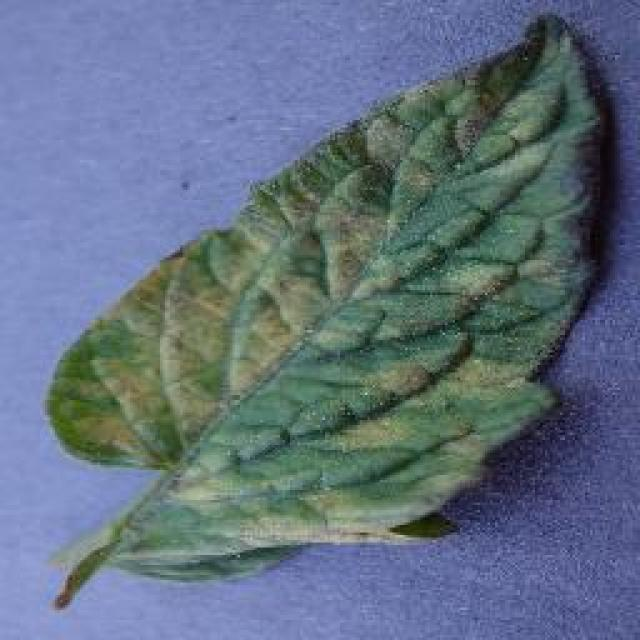Tomato___Leaf_Mold: (45, 18, 600, 610)
